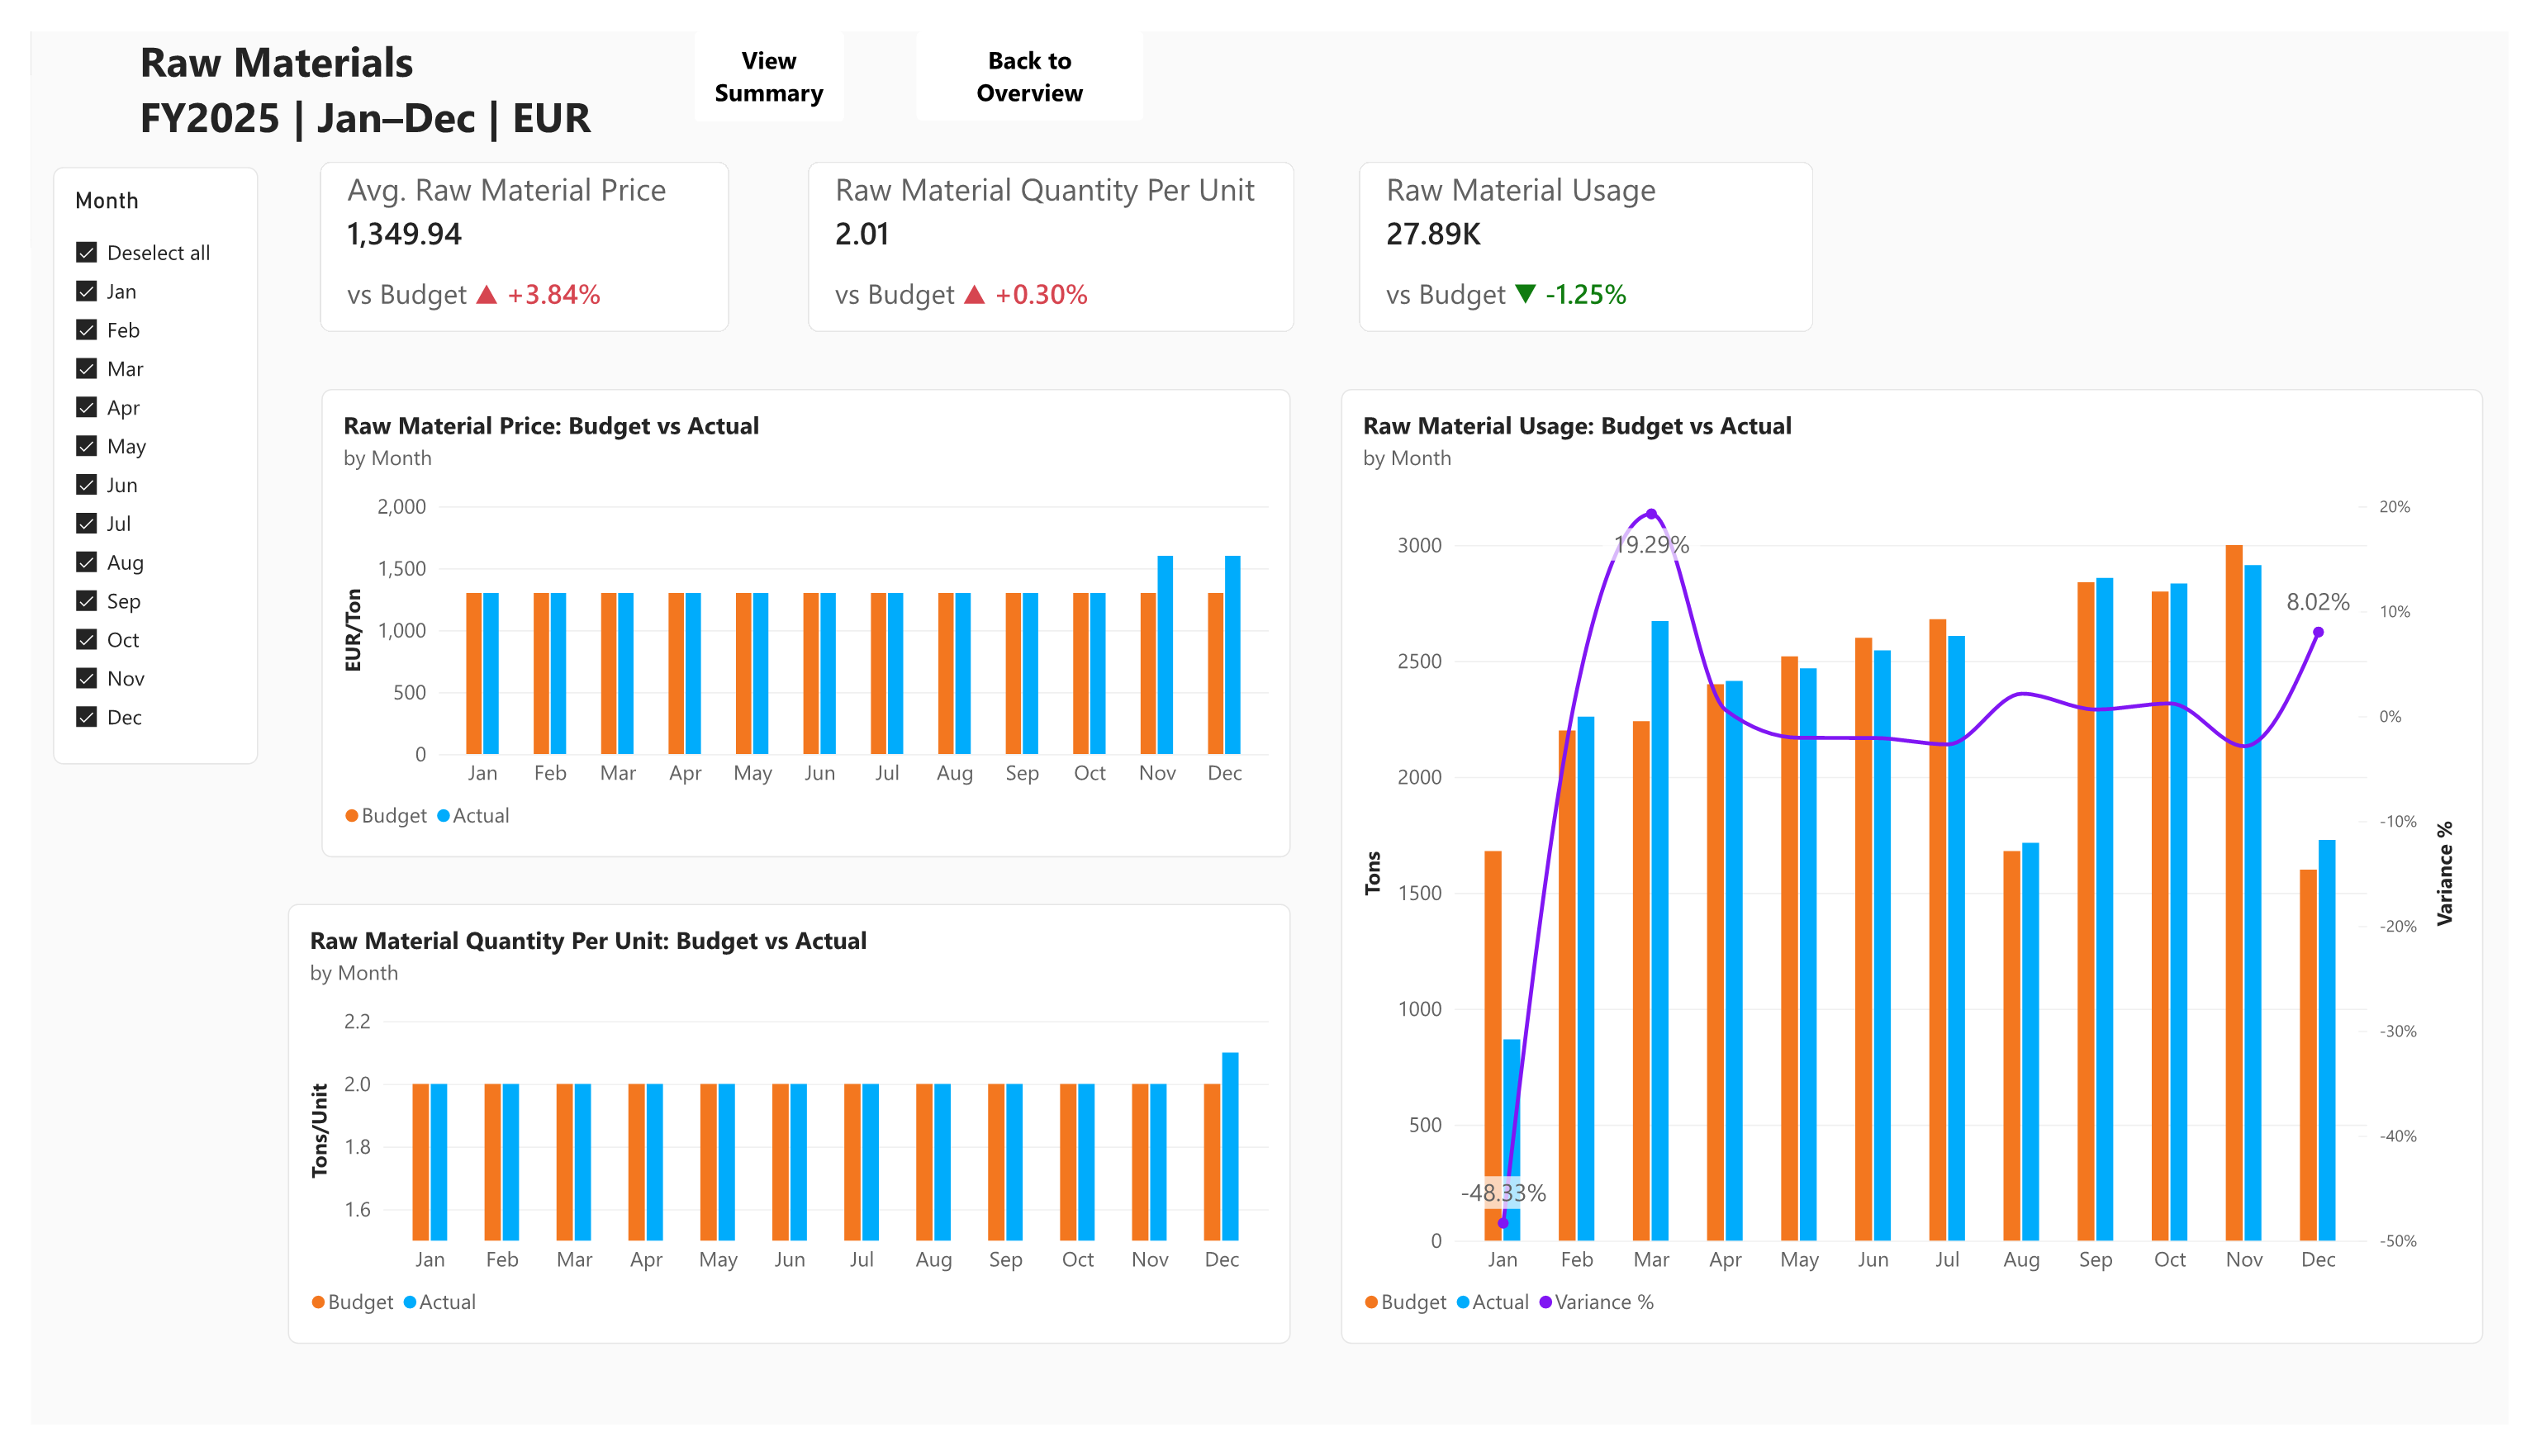

What the dashboard file says about the page in this screenshot:
{"tool":"powerbi","page":{"name":"Raw Materials - Driver Analysis","canvas":[1920,1080],"ordinal":5},"visuals":[{"type":"textbox","box":[83.8,0,461.4,105.4],"z":0},{"type":"clusteredColumnChart","title":"Raw Material Price: Budget vs Actual ","fields":{"Category":["Dim_Date.Month"],"Y":["_Measures.Budget RM Price","_Measures.Actual RM Price"]},"box":[224.7,277,751.7,363.2],"z":1000},{"type":"clusteredColumnChart","title":"Raw Material Quantity Per Unit: Budget vs Actual","fields":{"Category":["Dim_Date.Month"],"Y":["_Measures.Budget RM TonsPerUnit","_Measures.Actual RM TonsPerUnit"]},"box":[199.3,675.7,777,341.2],"z":2000},{"type":"listSlicer","fields":{"Values":["Dim_Date.MonthName"]},"box":[17.5,104.7,159,463.5],"z":3000},{"type":"lineClusteredColumnComboChart","title":"Raw Material Usage: Budget vs Actual","fields":{"Y":["_Measures.Budget RM Quantity","_Measures.Actual RM Quantity"],"Category":["Dim_Date.Month"],"Y2":["_Measures.RM Quantity Variance %","_Measures.RM Quantity Variance % Label Threshold"]},"box":[1015.2,277,885.1,739.9],"z":4000},{"type":"cardVisual","fields":{"Data":["_Measures.Actual RM Quantity"]},"box":[1029.1,81.1,351.6,171.7],"z":5000},{"type":"cardVisual","fields":{"Data":["_Measures.Actual RM TonsPerUnit"]},"box":[601.8,81.1,377.3,171.7],"z":6000},{"type":"cardVisual","fields":{"Data":["_Measures.Actual RM Price"]},"box":[224.5,81.1,316.4,171.7],"z":7000},{"type":"actionButton","box":[685.7,0,176.5,69.4],"z":8000},{"type":"actionButton","box":[514.3,0,115.7,70],"z":9000}]}

Visuals, with their boxes on the page's 1920x1080 design canvas (x1, y1, x2, y2). These are canvas units, not pixel positions in the 2540x1456 screenshot, which may show the page scaled, cropped or inside an application window:
textbox: [84, 0, 545, 105]
"Raw Material Price: Budget vs Actual " clusteredColumnChart: [225, 277, 976, 640]
"Raw Material Quantity Per Unit: Budget vs Actual" clusteredColumnChart: [199, 676, 976, 1017]
listSlicer - Dim_Date.MonthName: [18, 105, 176, 568]
"Raw Material Usage: Budget vs Actual" lineClusteredColumnComboChart: [1015, 277, 1900, 1017]
cardVisual - _Measures.Actual RM Quantity: [1029, 81, 1381, 253]
cardVisual - _Measures.Actual RM TonsPerUnit: [602, 81, 979, 253]
cardVisual - _Measures.Actual RM Price: [224, 81, 541, 253]
actionButton: [686, 0, 862, 69]
actionButton: [514, 0, 630, 70]
